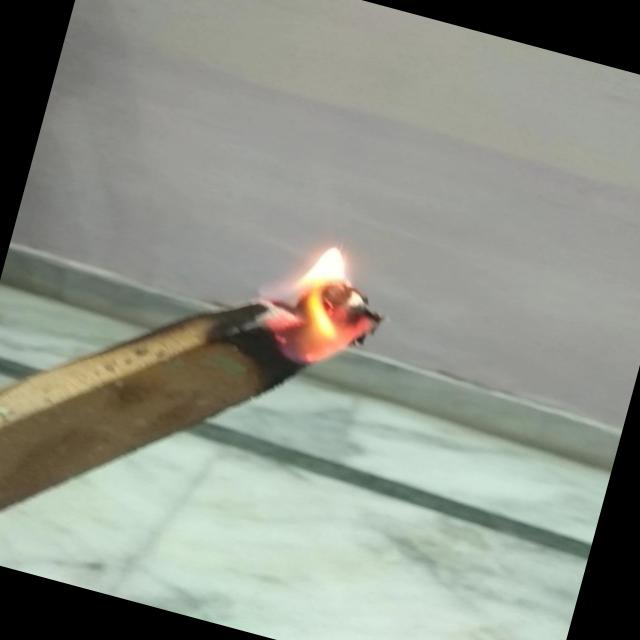fire: (232, 218, 405, 390)
